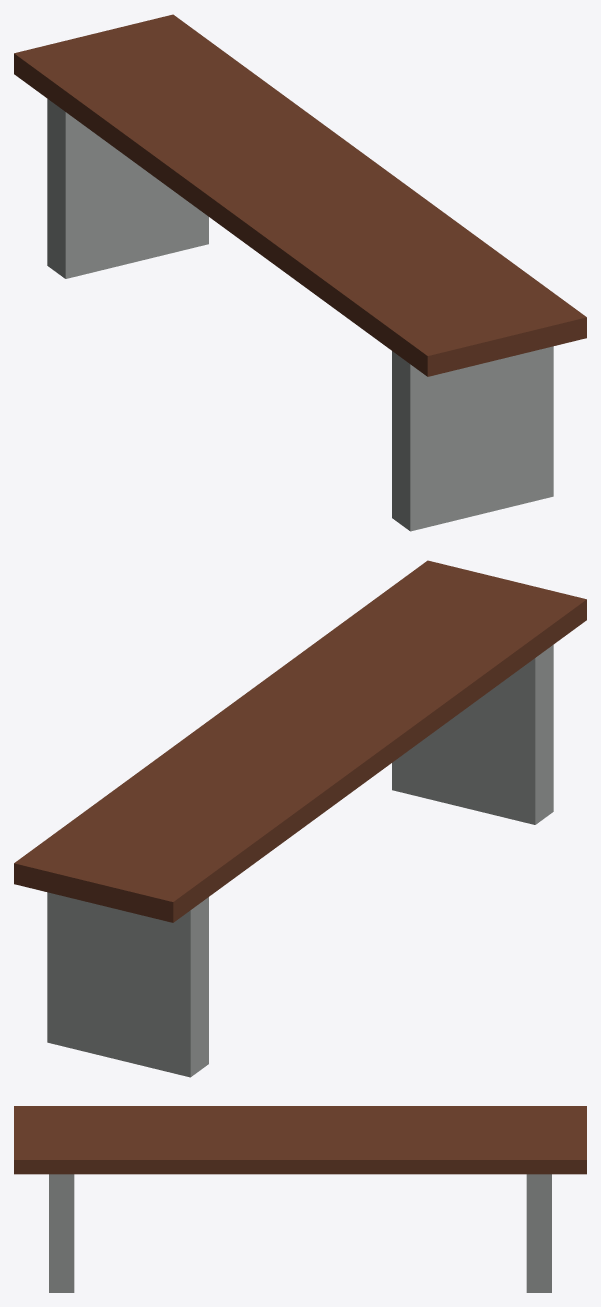
File: jetty_bench.glb
The picture shows the model from 3 angles, top to bottom: view 1: azimuth 30°, elevation 25°; view 2: azimuth 150°, elevation 25°; view 3: azimuth 270°, elevation 25°; orthographic projection. The views are drawn at different scales.
Visible parts, largest first — view 1: JettyBench; view 2: JettyBench; view 3: JettyBench.
Part boxes in pixels (x1=…): JettyBench: x1=14, y1=14, x2=586, y2=531; JettyBench: x1=14, y1=560, x2=586, y2=1077; JettyBench: x1=14, y1=1106, x2=586, y2=1292.
Bounding box in the file's own units: 0.4 × 0.47 × 1.8.
